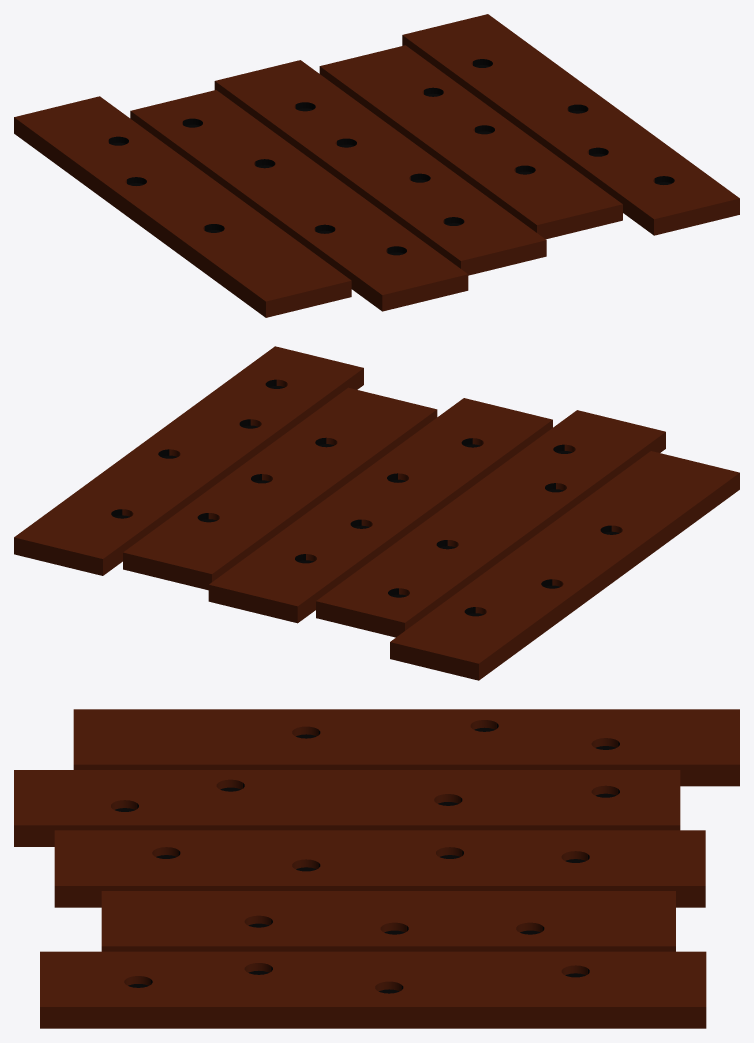
File: trampaInactivaNvl1.fbx
The picture shows the model from 3 angles, top to bottom: view 1: azimuth 30°, elevation 25°; view 2: azimuth 150°, elevation 25°; view 3: azimuth 270°, elevation 25°; orthographic projection. The views are drawn at different scales.
Visible parts, largest first — view 1: Box002, Box003, Box006, Box004, Box005; view 2: Box002, Box006, Box003, Box004, Box005; view 3: Box006, Box002, Box003, Box004, Box005.
Part boxes in pixels (x1,y1,x2,y2): Box002: (14,96,351,317); Box003: (130,90,468,311); Box006: (402,14,739,235); Box004: (214,60,546,275); Box005: (319,45,622,239); Box002: (390,451,739,680); Box006: (14,346,363,575); Box003: (316,410,665,637); Box004: (208,398,552,623); Box005: (123,387,437,590); Box006: (40,951,706,1028); Box002: (73,709,739,786); Box003: (14,770,680,846); Box004: (54,830,705,907); Box005: (101,891,675,951).
Bounding box in the file's own units: 0.9223 × 0.0313 × 0.9507.
